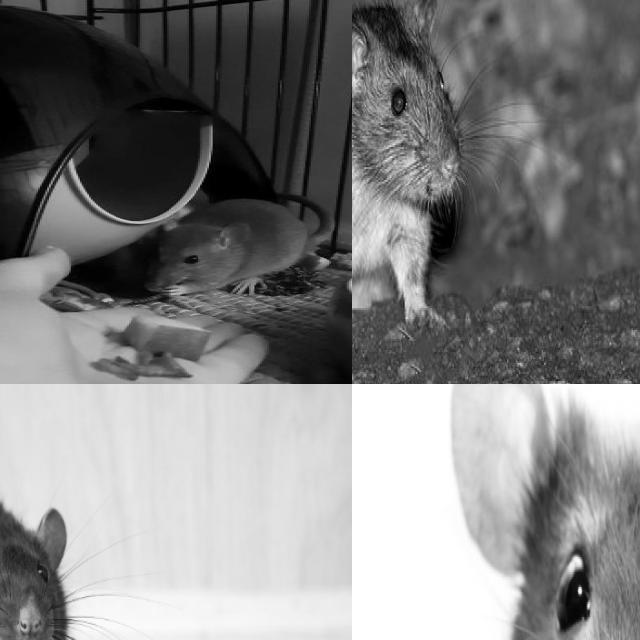rat: (447, 384, 640, 640), (352, 0, 463, 326), (0, 460, 121, 640), (136, 193, 315, 305)
